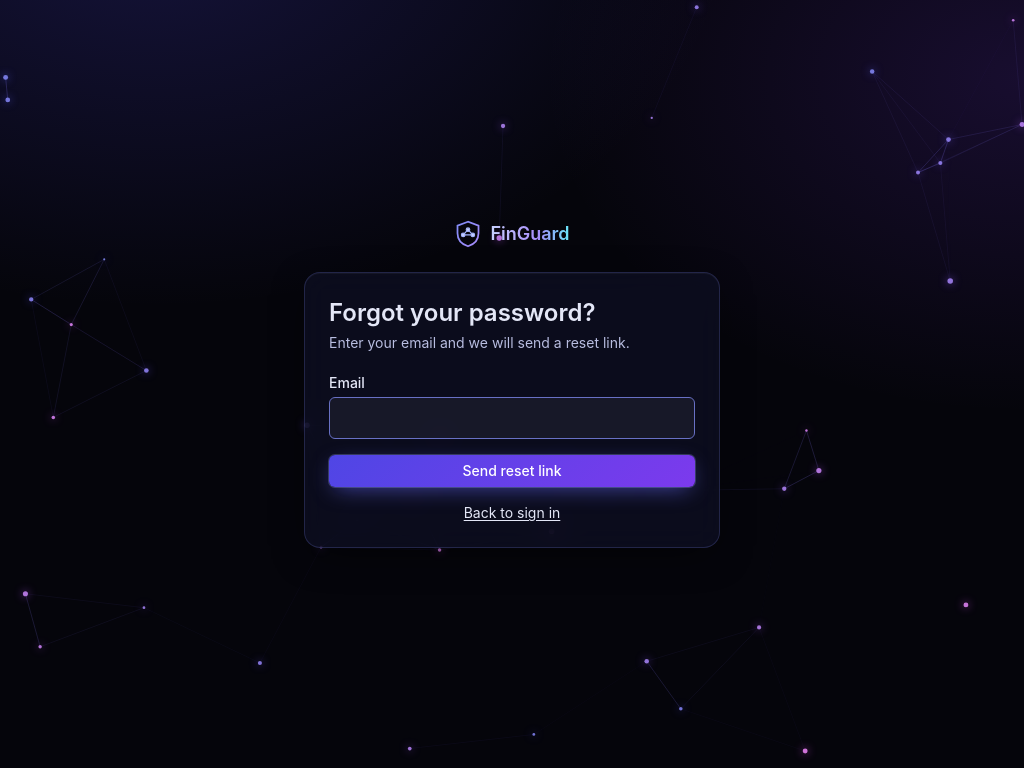
Test: ForgotPasswordPage and ResetPasswordPage › always says an email is on the way, whoever asked
Step 1. Type "anyone@example.com" into the field labelled "Email" → [512, 418], box [329, 397, 695, 439]
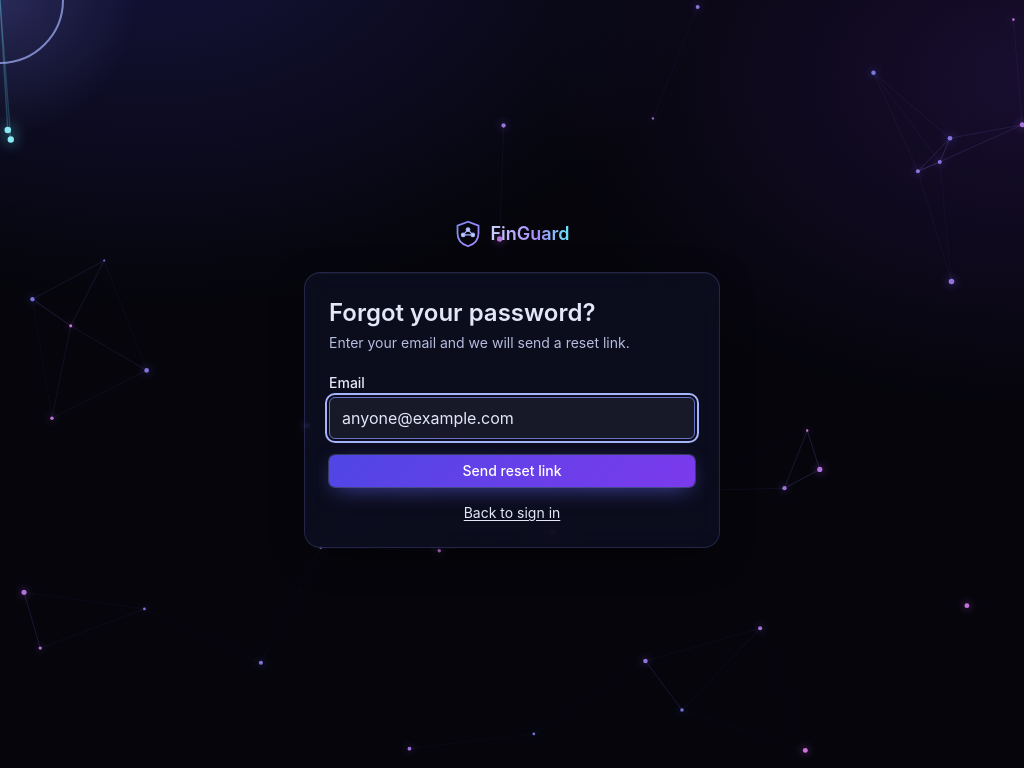
Step 2. Click the button "Send reset link" → [512, 471], box [329, 455, 695, 487]
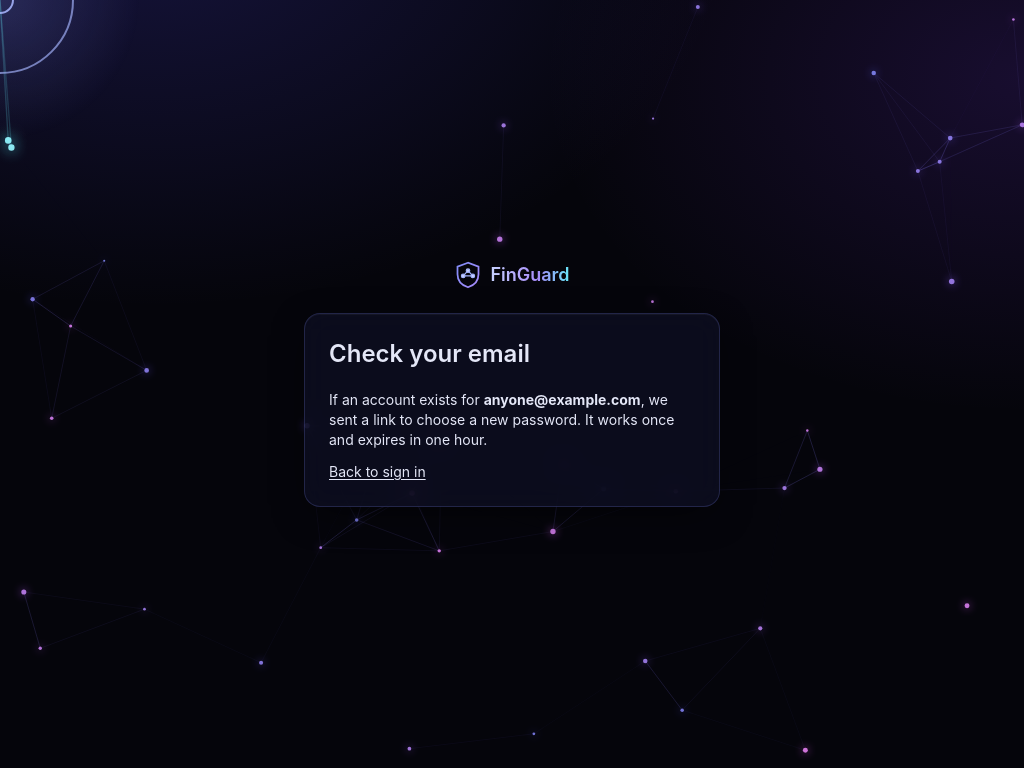
Expected: the text "If an account exists for" is shown, [329, 391, 484, 408]
